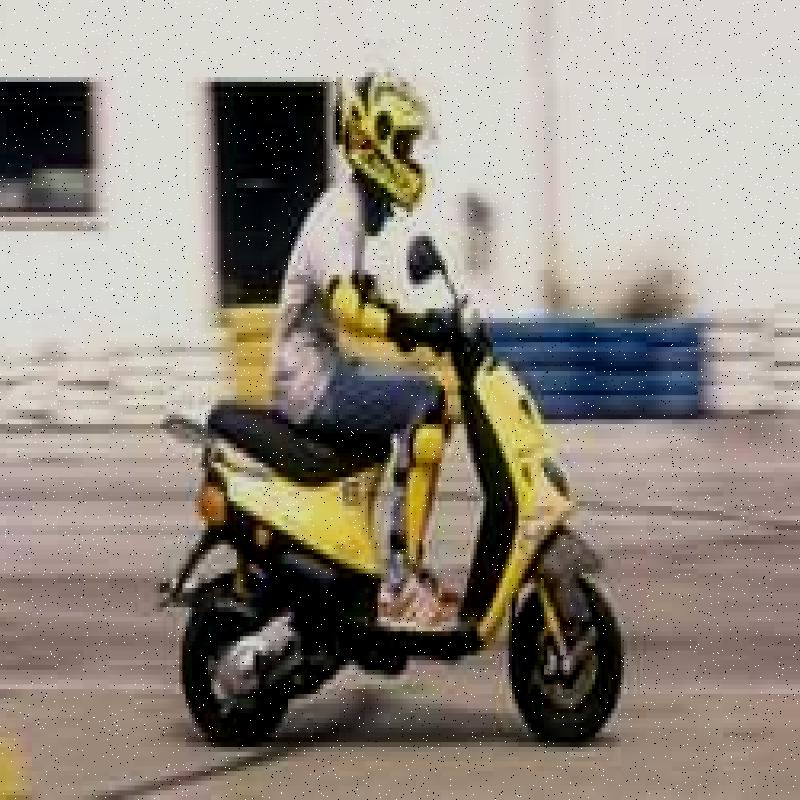bike: (160, 207, 631, 754)
